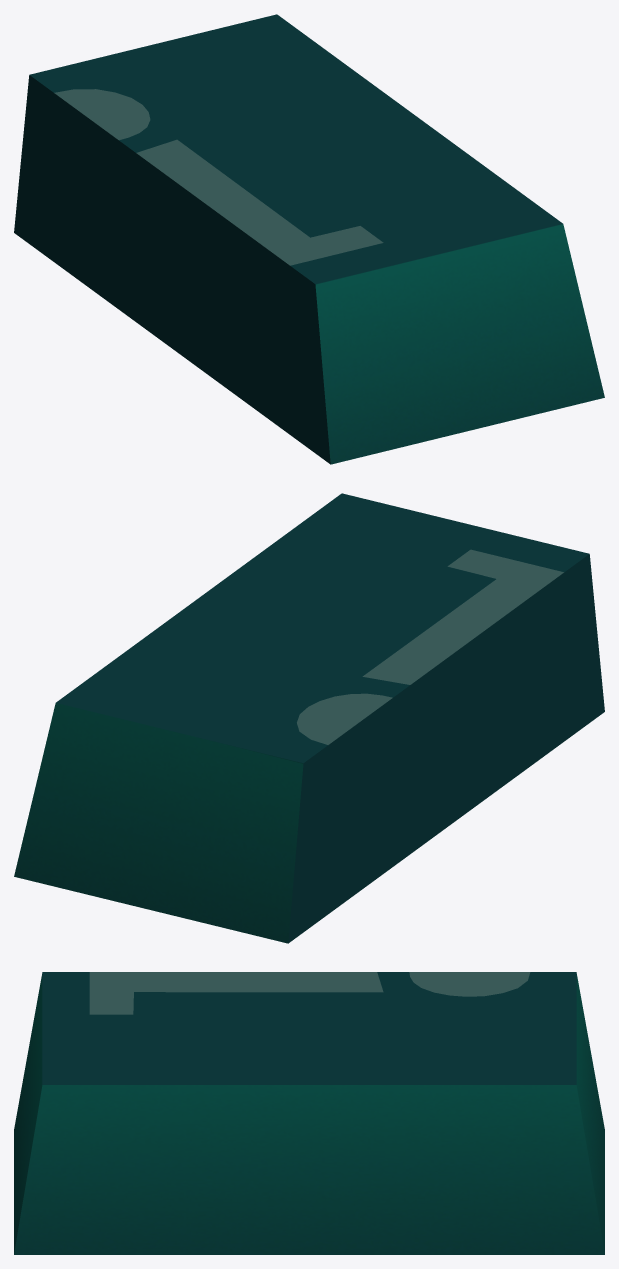
The model's file is BlockRight.fbx.
The picture shows the model from 3 angles, top to bottom: view 1: azimuth 30°, elevation 25°; view 2: azimuth 150°, elevation 25°; view 3: azimuth 270°, elevation 25°; orthographic projection. The views are drawn at different scales.
Visible parts, largest first — view 1: pCube12; view 2: pCube12; view 3: pCube12.
Part boxes in pixels (bbox=[...]): pCube12: bbox=[14, 14, 604, 464]; pCube12: bbox=[14, 493, 604, 943]; pCube12: bbox=[14, 972, 604, 1254].
Size of the model in its own units: 0.2231 by 0.1315 by 0.4462.
2 materials, 1 textured.
